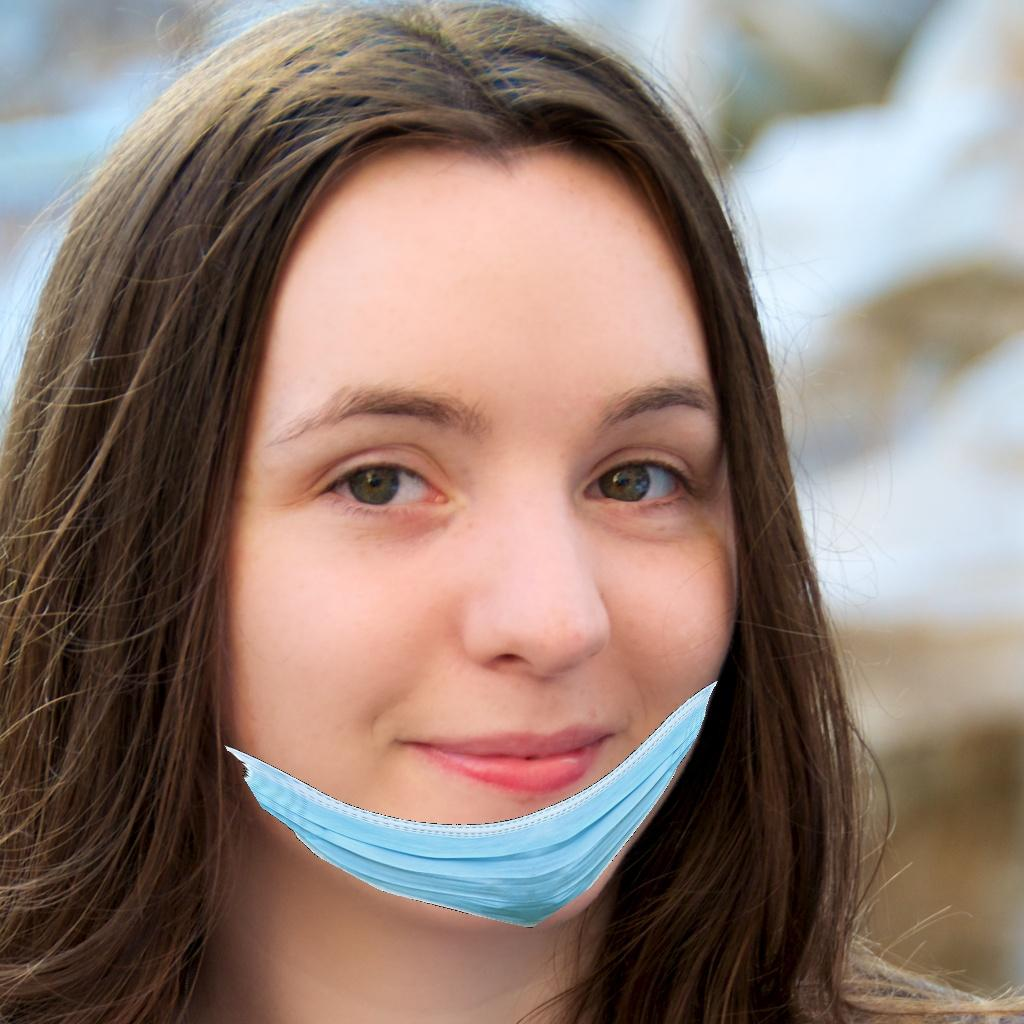Máscara Incorreta: (182, 256, 738, 938)
